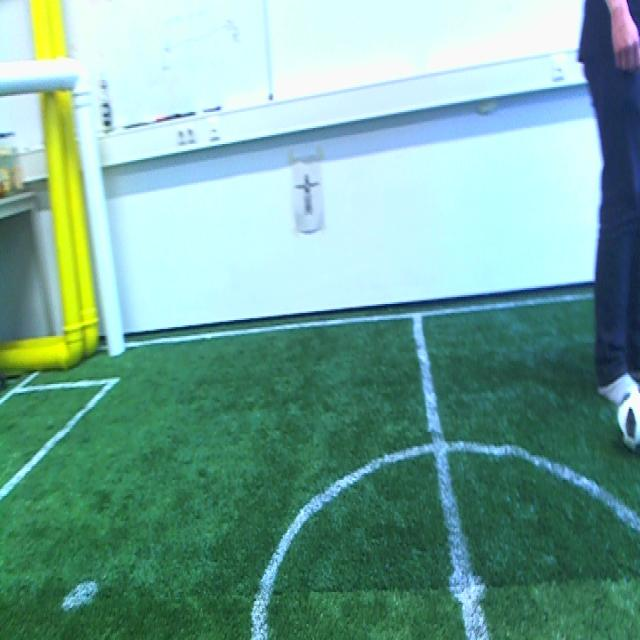ball: (617, 388, 640, 450)
goalpost: (89, 151, 129, 366)
